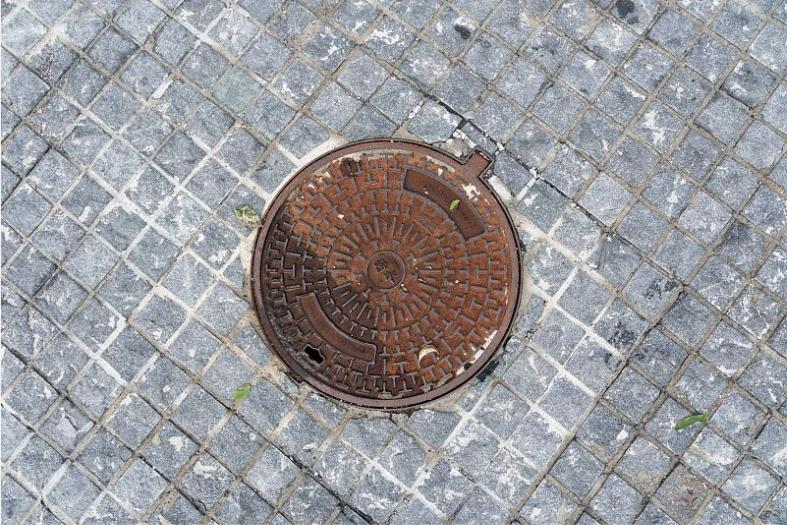wellcover: (219, 126, 541, 416)
